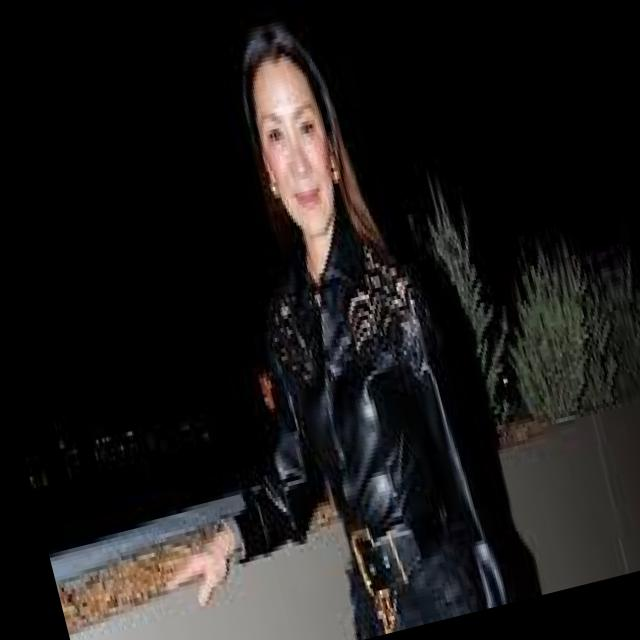Jacket: (222, 185, 534, 640)
